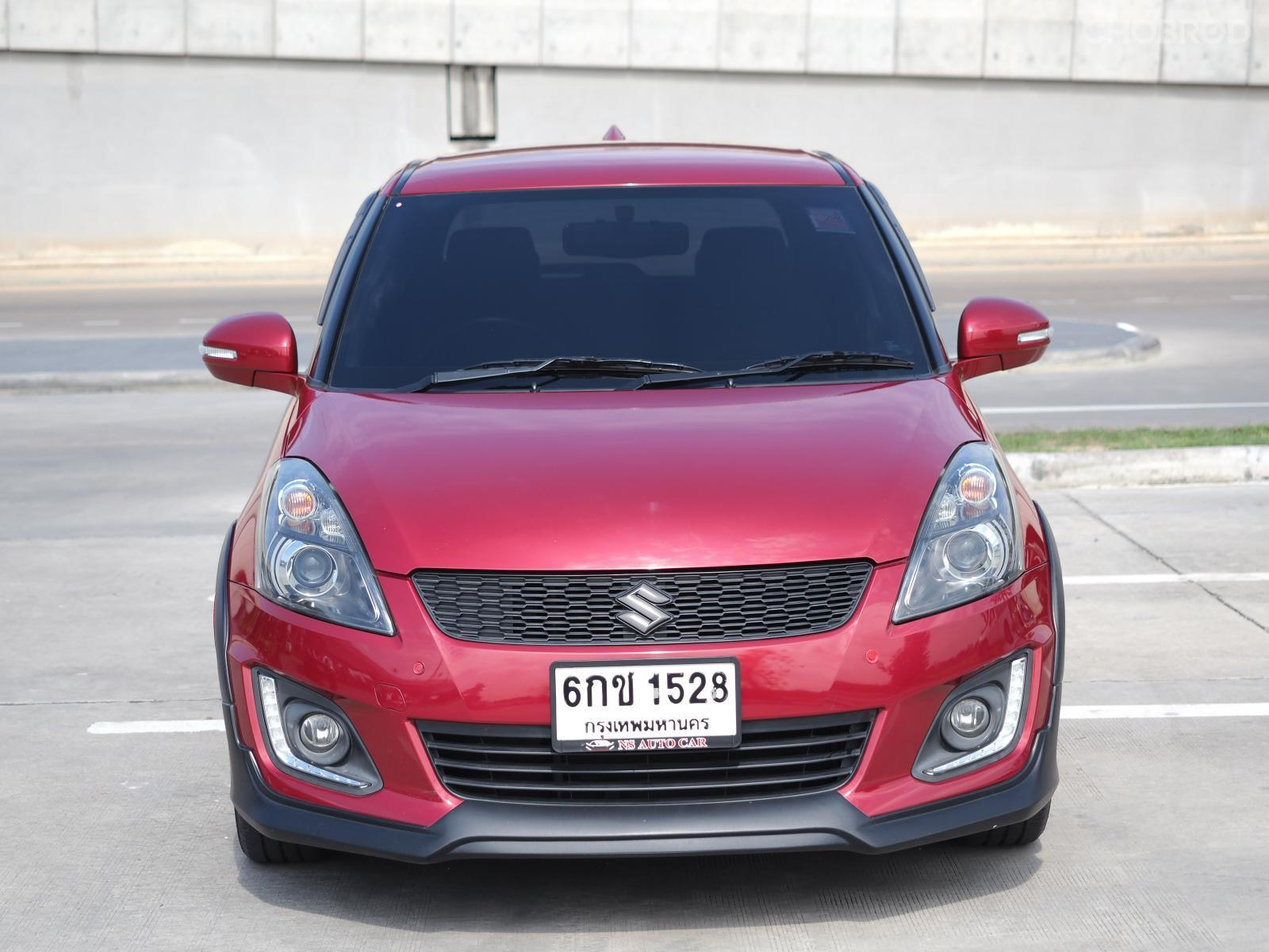license-plate: (548, 657, 747, 750)
